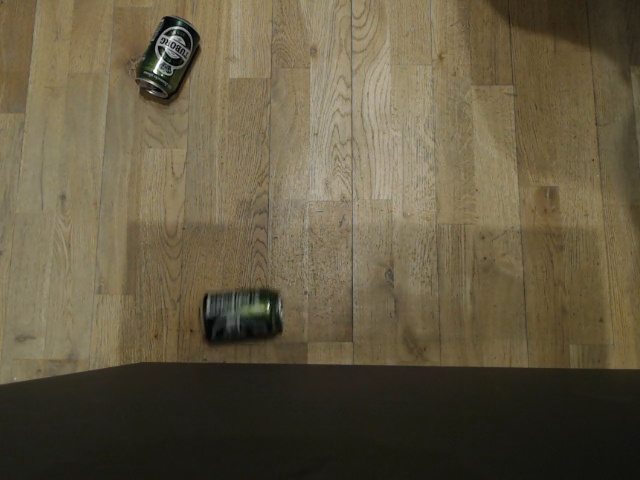beer: (132, 13, 202, 100), (199, 285, 285, 344)
